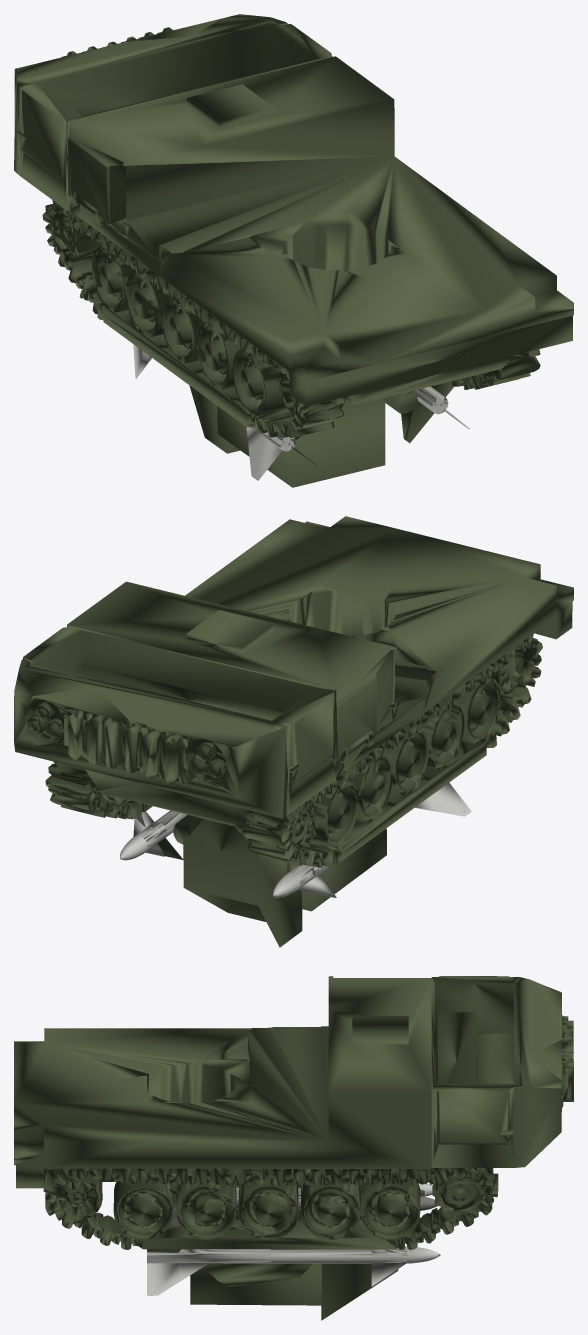
File: chaparral_lo.glb
3 renders of one model, top to bottom at view 1: azimuth 30°, elevation 25°; view 2: azimuth 150°, elevation 25°; view 3: azimuth 270°, elevation 25°, orthographic. The views are drawn at different scales.
Parts seen in each view (by area): view 1: body|MIM-72Carrier#camo, cradle|MIM-72Launcher#camo, cradle|MIM-72Launcher#msl; view 2: body|MIM-72Carrier#camo, cradle|MIM-72Launcher#camo, cradle|MIM-72Launcher#msl; view 3: body|MIM-72Carrier#camo, cradle|MIM-72Launcher#camo, cradle|MIM-72Launcher#msl.
Part boxes in pixels (x1,y1,x2,y2): body|MIM-72Carrier#camo: [14, 14, 573, 438]; cradle|MIM-72Launcher#camo: [189, 381, 454, 487]; cradle|MIM-72Launcher#msl: [133, 344, 469, 480]; body|MIM-72Carrier#camo: [14, 516, 573, 867]; cradle|MIM-72Launcher#camo: [158, 811, 464, 947]; cradle|MIM-72Launcher#msl: [120, 782, 471, 897]; body|MIM-72Carrier#camo: [14, 976, 573, 1249]; cradle|MIM-72Launcher#camo: [147, 1183, 425, 1320]; cradle|MIM-72Launcher#msl: [147, 1183, 440, 1295].
Size of the model in its own units: 2.95 by 3.27 by 5.97.
